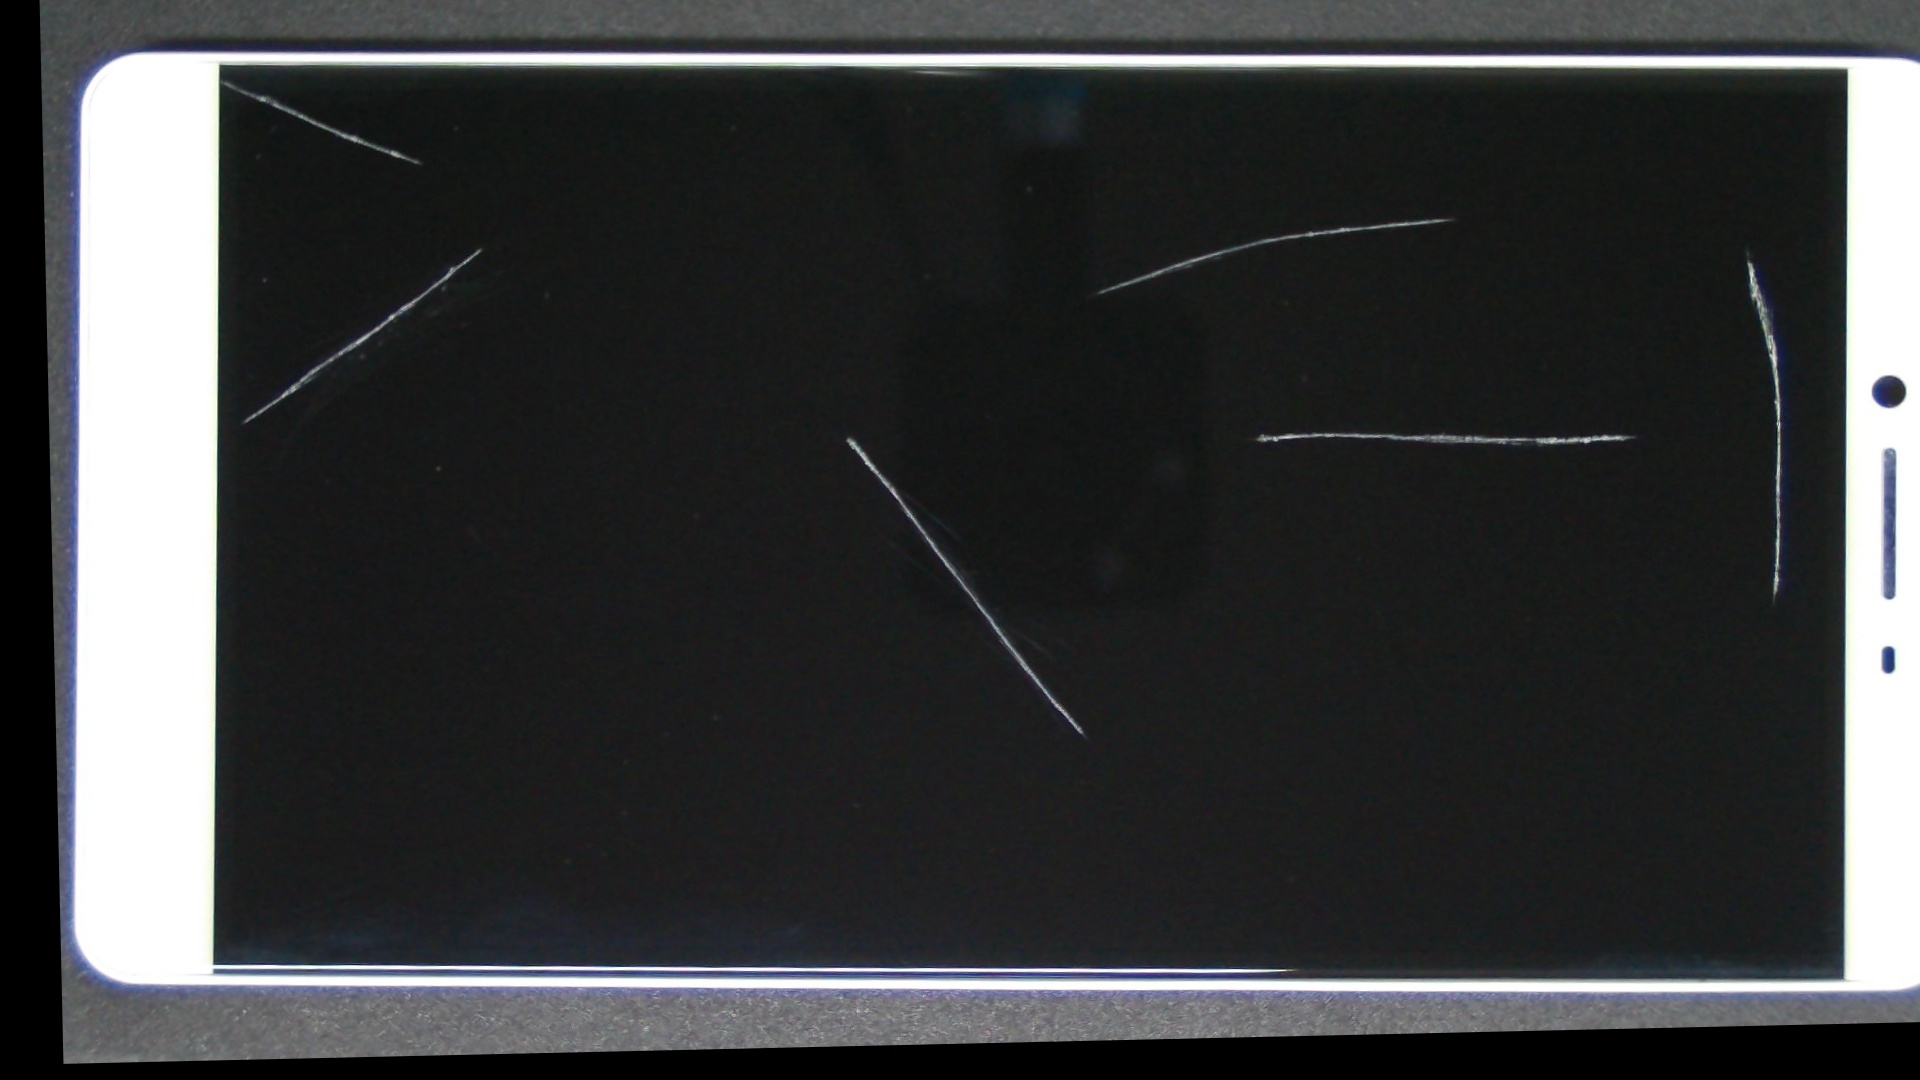oil: (663, 185, 1909, 680), (444, 195, 1251, 676), (731, 76, 1920, 363), (895, 99, 1920, 430), (261, 109, 699, 385), (133, 32, 318, 128)
